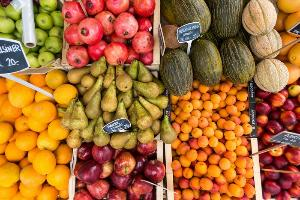apple: (68, 138, 163, 200), (1, 1, 64, 66)
apricot: (168, 78, 256, 200)
melon: (241, 0, 300, 92)
orange: (0, 55, 72, 200)
peach: (246, 84, 300, 200)
pear: (62, 56, 172, 150)
pomegranate: (62, 0, 158, 68)
